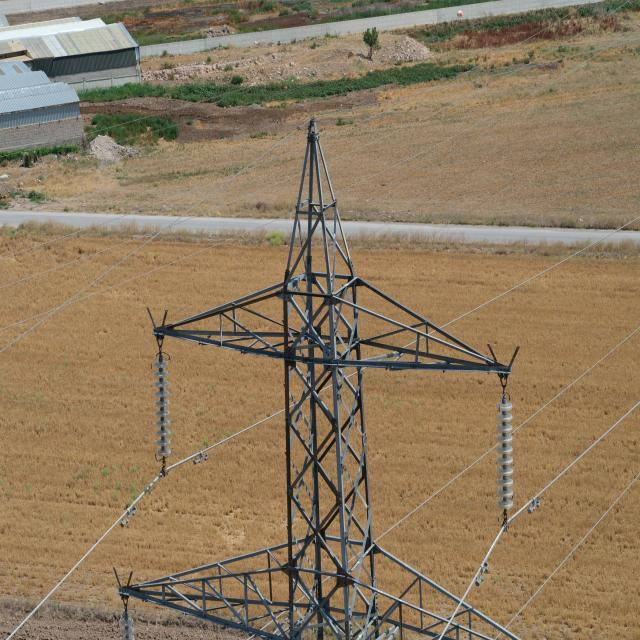direk: (160, 117, 507, 640)
